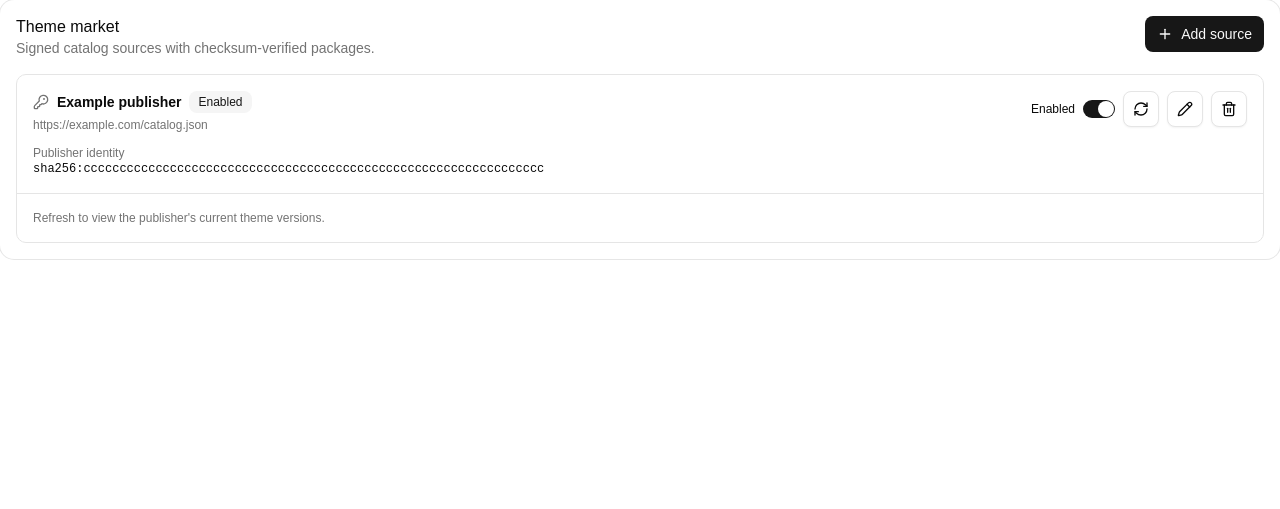
Test: verified theme market › installs exactly the selected version and refreshes the library without activating
Click the button named "Refresh catalog" at [1141, 109], box [1123,91,1159,127]
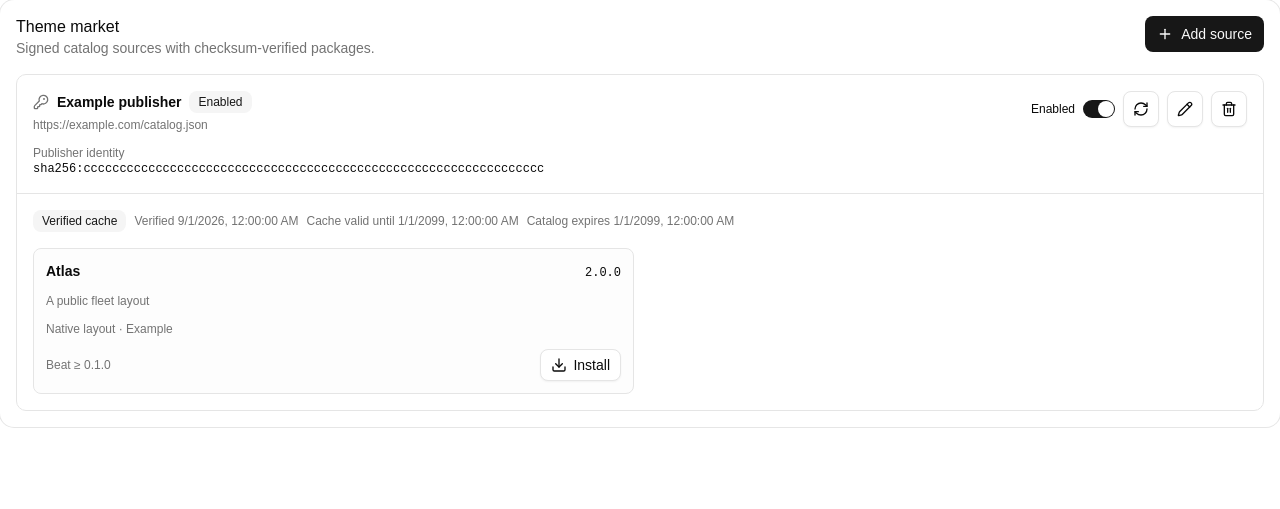
Click the button "Install" at [581, 365], box [540,349,621,381]
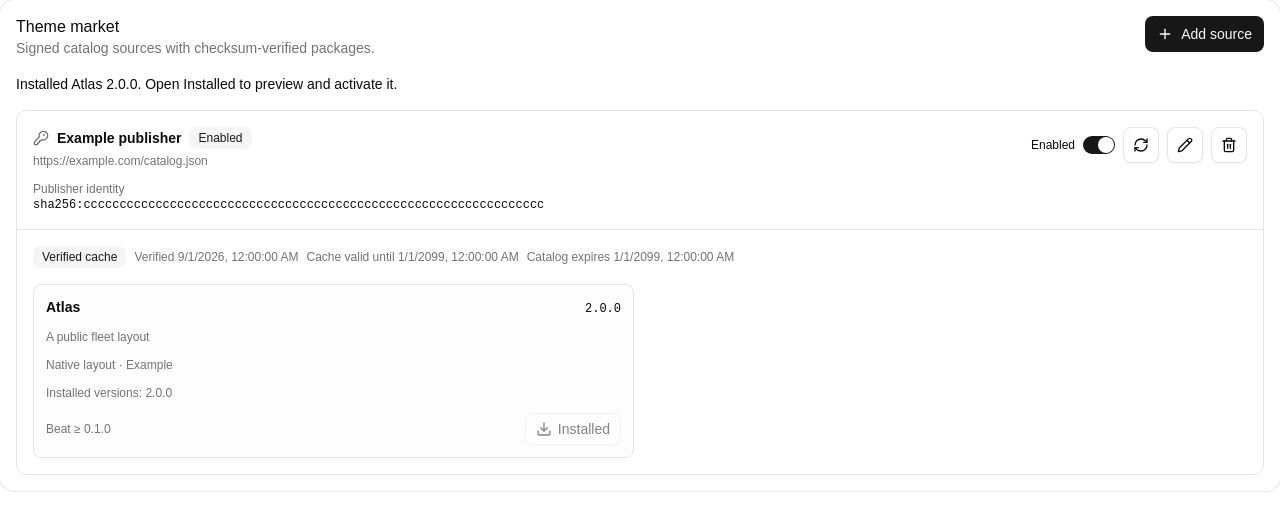
Expected: the text "Installed Atlas 2.0.0. Open Installed to preview and activate it." is shown, [16,76,397,92]
Expected: the button "Installed" is disabled, [525,413,621,445]
